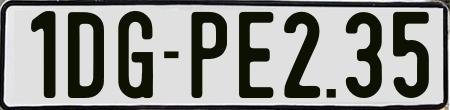1: (29, 11, 55, 100)
2: (282, 12, 323, 99)
3: (346, 9, 388, 96)
5: (392, 11, 431, 102)
D: (66, 12, 103, 103)
E: (237, 11, 274, 97)
G: (118, 10, 157, 98)
P: (190, 12, 229, 99)
